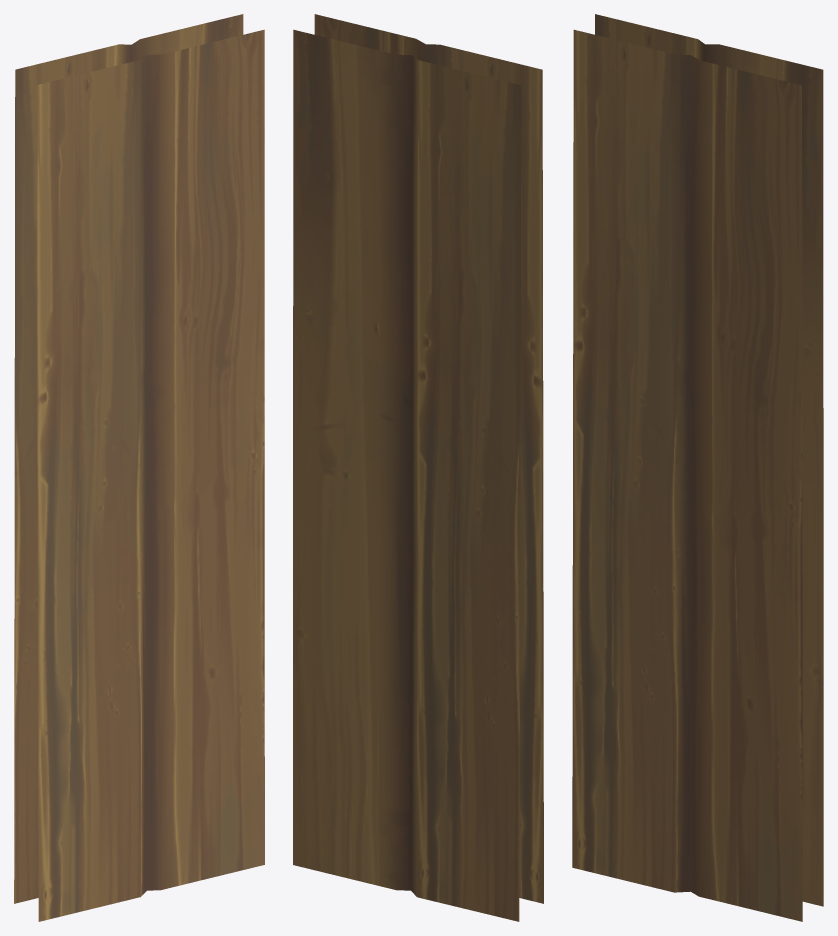
File: SM_MOD_wall_quarter_planks_vert_town.fbx
3 renders of one model, left to right at view 1: azimuth 30°, elevation 25°; view 2: azimuth 150°, elevation 25°; view 3: azimuth 330°, elevation 25°, orthographic.
Visible parts, largest first — view 1: SM_MOD_wall_quarter_planks_vert_town; view 2: SM_MOD_wall_quarter_planks_vert_town; view 3: SM_MOD_wall_quarter_planks_vert_town.
Part boxes in pixels (<box>): SM_MOD_wall_quarter_planks_vert_town: <box>14,14,264,921</box>; SM_MOD_wall_quarter_planks_vert_town: <box>293,14,543,921</box>; SM_MOD_wall_quarter_planks_vert_town: <box>572,14,823,921</box>.
Bounding box in the file's own units: 80.17 × 280 × 15.12.
